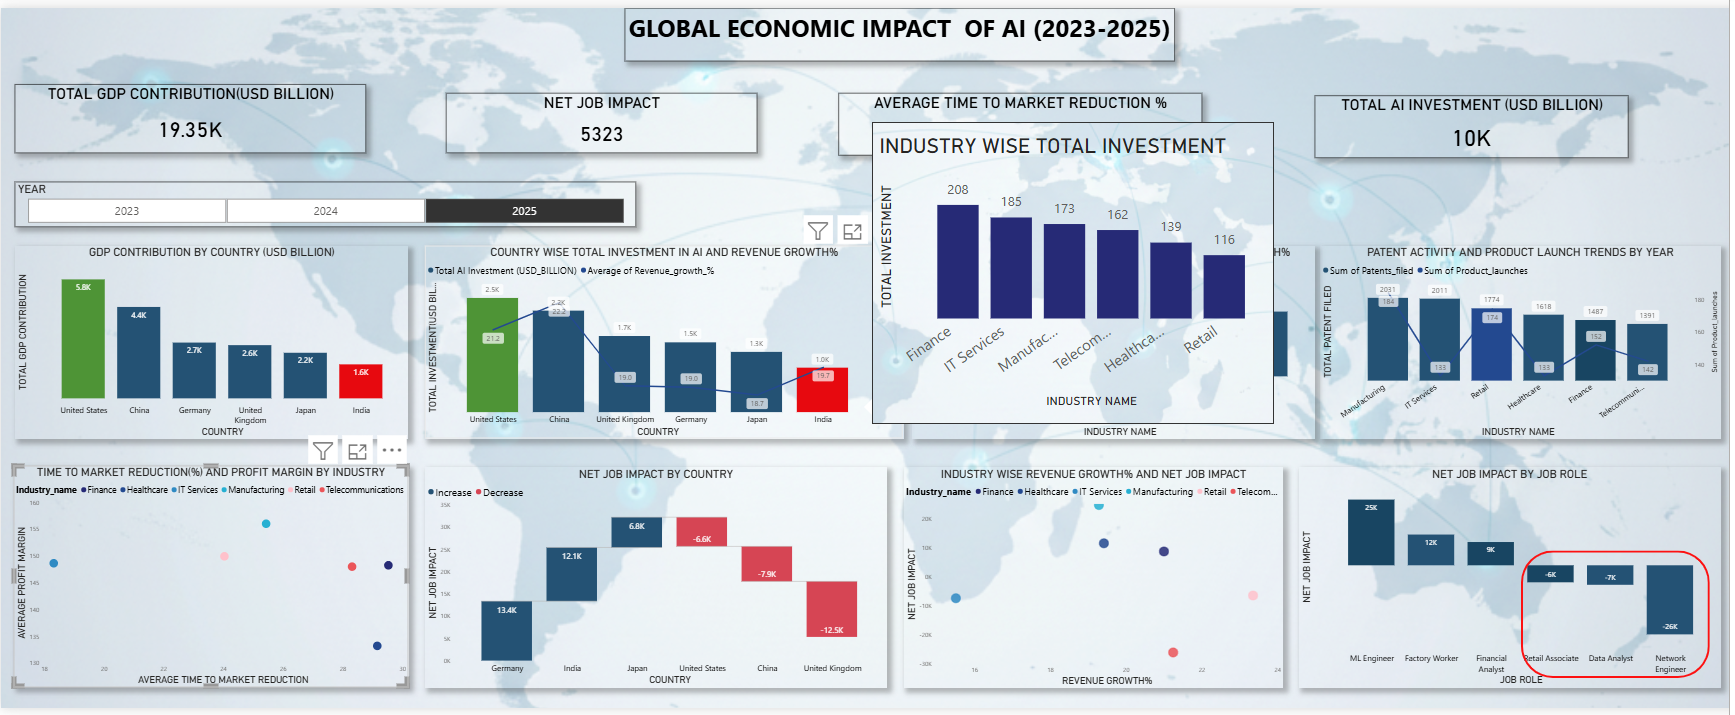

The page's visual inventory and layout, read from the dashboard file:
{"tool":"powerbi","page":{"name":"Page 1","canvas":[3500,1400],"ordinal":0},"visuals":[{"type":"slicer","title":"YEAR","fields":{"Values":["date_dim1.Year"]},"box":[27.5,347.5,1242.5,90],"z":0},{"type":"columnChart","title":"INDUSTRY PERFORMANCE BASED ON AVERAGE REVENUE GROWTH%","fields":{"Category":["industry_dim1.Industry_name"],"Y":["Avg(economic_impact_fact.Revenue_growth_%)"]},"box":[1822.5,475,805,387.5],"z":1000},{"type":"scatterChart","title":"TIME TO MARKET REDUCTION(%) AND PROFIT MARGIN BY INDUSTRY","fields":{"Category":["industry_dim1.Industry_name"],"X":["Avg(innovation_impact_fact1.Time_to_Market_Reduction_%)"],"Y":["MEASURE.Avg Profit margin"],"Series":["industry_dim1.Industry_name"]},"box":[26,916,790,444],"z":2000},{"type":"waterfallChart","title":"NET JOB IMPACT BY COUNTRY","fields":{"Y":["MEASURE.NET JOB IMPACT"],"Category":["region_dim1.Country"]},"box":[847.5,917.5,925,442.5],"z":3000},{"type":"lineClusteredColumnComboChart","title":"PATENT ACTIVITY AND PRODUCT LAUNCH TRENDS BY YEAR","fields":{"Y2":["Sum(innovation_impact_fact1.Product_launches)"],"Y":["Sum(innovation_impact_fact1.Patents_filed)"],"Category":["industry_dim1.Industry_name"]},"box":[2637.5,475,802.5,387.5],"z":4000},{"type":"card","title":"AVERAGE TIME TO MARKET REDUCTION %","fields":{"Values":["Avg(innovation_impact_fact1.Time_to_Market_Reduction_%)"]},"box":[1675,170,727.5,125],"z":5000},{"type":"card","title":"NET JOB IMPACT","fields":{"Values":["MEASURE.NET JOB IMPACT"]},"box":[890,170,622.5,120],"z":6000},{"type":"scatterChart","title":"INDUSTRY WISE REVENUE GROWTH% AND NET JOB IMPACT","fields":{"Y":["MEASURE.NET JOB IMPACT"],"X":["Avg(economic_impact_fact.Revenue_growth_%)"],"Category":["industry_dim1.Industry_name"],"Series":["industry_dim1.Industry_name"]},"box":[1805,917.5,760,442.5],"z":7000},{"type":"clusteredColumnChart","title":"NET JOB IMPACT BY JOB ROLE","fields":{"Category":["job_role_dim1.Job_role_name"],"Y":["MEASURE.NET JOB IMPACT"]},"box":[2595,917.5,845,442.5],"z":8000},{"type":"clusteredColumnChart","title":"GDP CONTRIBUTION BY COUNTRY (USD BILLION)","fields":{"Category":["region_dim1.Country"],"Y":["Sum(economic_impact_fact.GDP_contribution(USD BILLION))"]},"box":[27.5,475,787.5,387.5],"z":9000},{"type":"lineStackedColumnComboChart","title":"COUNTRY WISE TOTAL INVESTMENT IN AI AND REVENUE GROWTH%","fields":{"Category":["region_dim1.Country"],"Y":["MEASURE.Total AI Investment (USD_BILLION)"],"Y2":["Avg(economic_impact_fact.Revenue_growth_%)"]},"box":[847.5,475,957.5,387.5],"z":10000},{"type":"card","title":"TOTAL GDP CONTRIBUTION(USD BILLION)","fields":{"Values":["Sum(economic_impact_fact.GDP_contribution(USD BILLION))"]},"box":[27.5,152.5,702.5,137.5],"z":11000},{"type":"card","title":"TOTAL AI INVESTMENT (USD BILLION)","fields":{"Values":["Sum(ai_adoption_fact1.AI_Investment(USD_BILLION))"]},"box":[2627.5,175,627.5,125],"z":12000},{"type":"textbox","box":[1246.7,0,1100,106.7],"z":13000},{"type":"shape","box":[3040,1085,377.5,255],"z":14000}]}

Visuals, with their boxes in screenshot pixels (x1, y1, x2, y2), scaled from the page's 3500x1400 canvas onto the 1735x715 screenshot:
"YEAR" slicer: 14/177/630/223
"INDUSTRY PERFORMANCE BASED ON AVERAGE REVENUE GROWTH%" columnChart: 903/243/1302/440
"TIME TO MARKET REDUCTION(%) AND PROFIT MARGIN BY INDUSTRY" scatterChart: 13/468/405/695
"NET JOB IMPACT BY COUNTRY" waterfallChart: 420/469/879/695
"PATENT ACTIVITY AND PRODUCT LAUNCH TRENDS BY YEAR" lineClusteredColumnComboChart: 1307/243/1705/440
"AVERAGE TIME TO MARKET REDUCTION %" card: 830/87/1191/151
"NET JOB IMPACT" card: 441/87/750/148
"INDUSTRY WISE REVENUE GROWTH% AND NET JOB IMPACT" scatterChart: 895/469/1272/695
"NET JOB IMPACT BY JOB ROLE" clusteredColumnChart: 1286/469/1705/695
"GDP CONTRIBUTION BY COUNTRY (USD BILLION)" clusteredColumnChart: 14/243/404/440
"COUNTRY WISE TOTAL INVESTMENT IN AI AND REVENUE GROWTH%" lineStackedColumnComboChart: 420/243/895/440
"TOTAL GDP CONTRIBUTION(USD BILLION)" card: 14/78/362/148
"TOTAL AI INVESTMENT (USD BILLION)" card: 1302/89/1614/153
textbox: 618/0/1163/54
shape: 1507/554/1694/684
